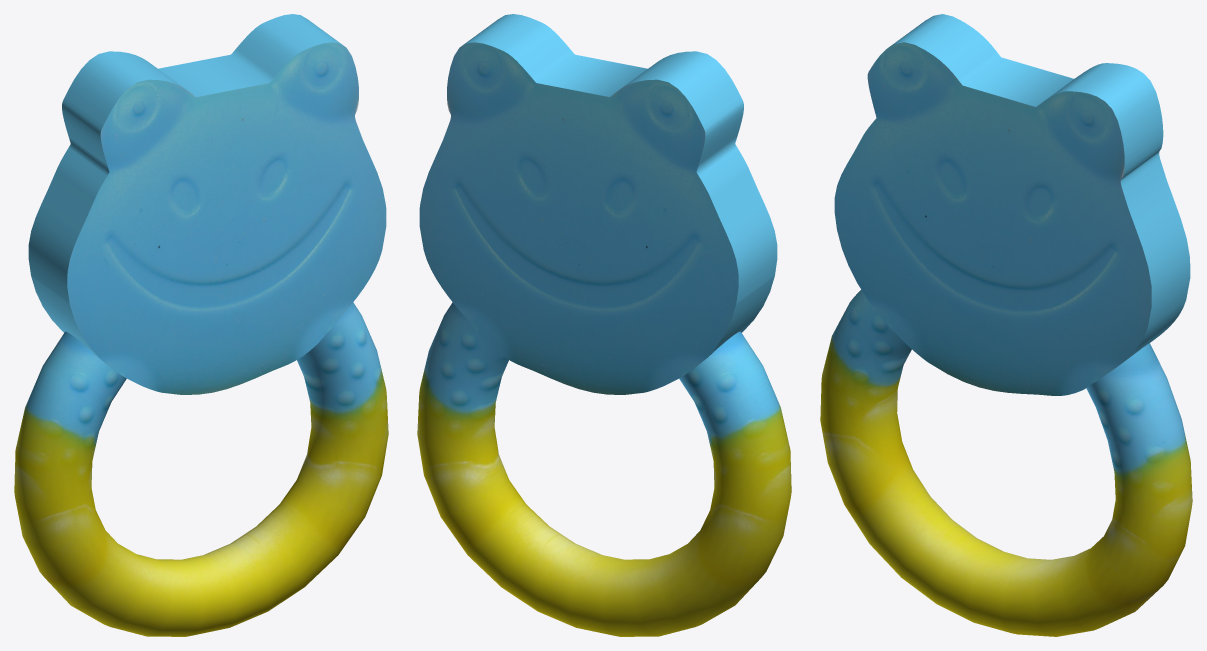
The model's file is Teether.fbx.
The picture shows the model from 3 angles, left to right: view 1: azimuth 30°, elevation 25°; view 2: azimuth 150°, elevation 25°; view 3: azimuth 330°, elevation 25°; orthographic projection.
Parts seen in each view (by area): view 1: Teether; view 2: Teether; view 3: Teether.
Part boxes in pixels (<box>): Teether: <box>14,14,388,636</box>; Teether: <box>417,14,791,636</box>; Teether: <box>820,14,1192,636</box>.
Size of the model in its own units: 5.43 by 8.3 by 1.
1 material, 1 textured.
